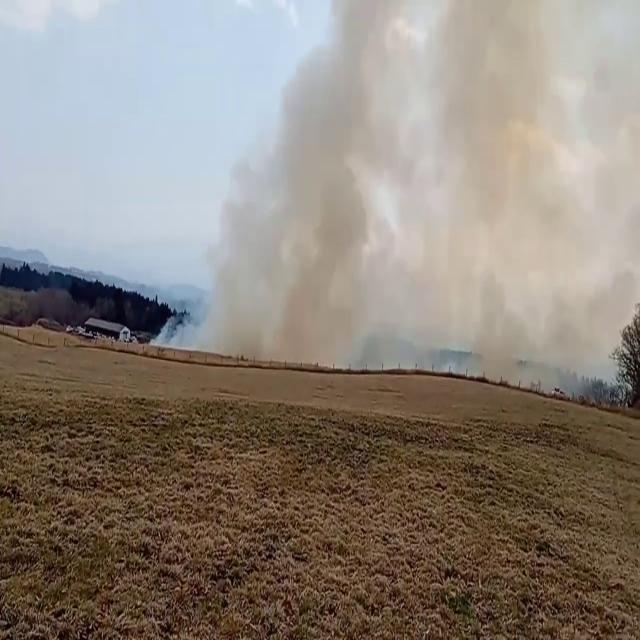Smoke: (172, 1, 638, 379)
